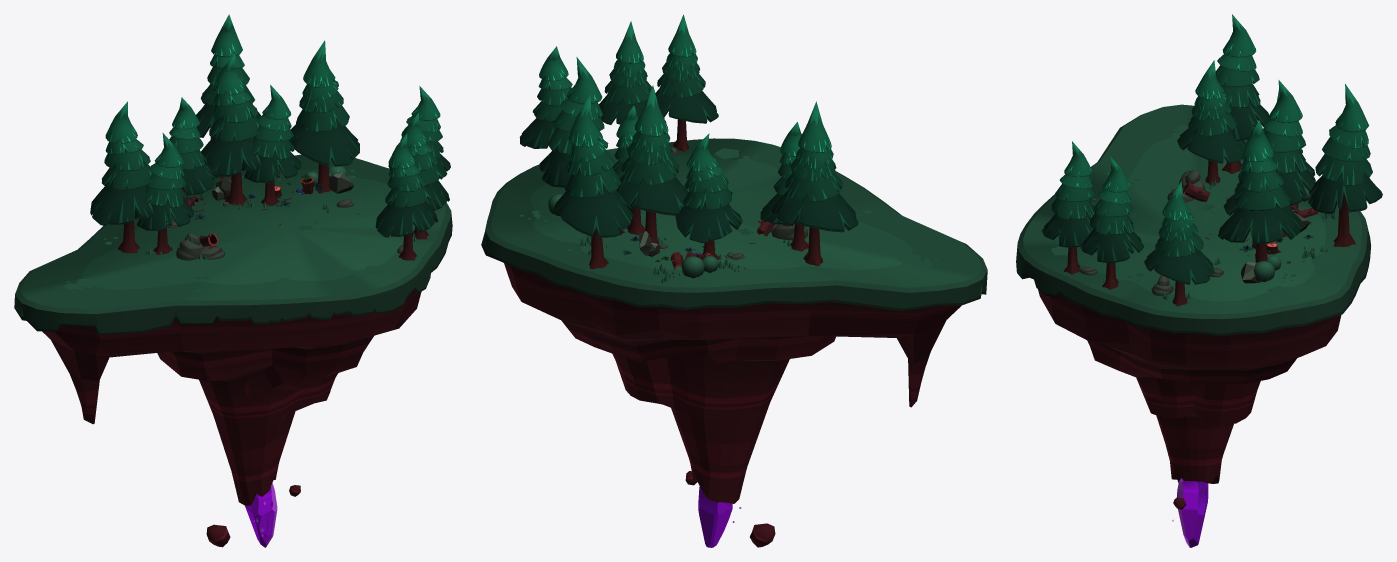
File: Island_Small_PineForest.fbx
The picture shows the model from 3 angles, left to right: view 1: azimuth 30°, elevation 25°; view 2: azimuth 150°, elevation 25°; view 3: azimuth 270°, elevation 25°; orthographic projection. The views are drawn at different scales.
Visible parts, largest first — view 1: pCube142; view 2: pCube142; view 3: pCube142.
Boxes of the visible parts, box(x1,y1,x2,y2) form: pCube142: box(14, 14, 452, 547); pCube142: box(481, 14, 987, 547); pCube142: box(1016, 14, 1382, 547).
Size of the model in its own units: 96.03 by 101 by 69.3.
